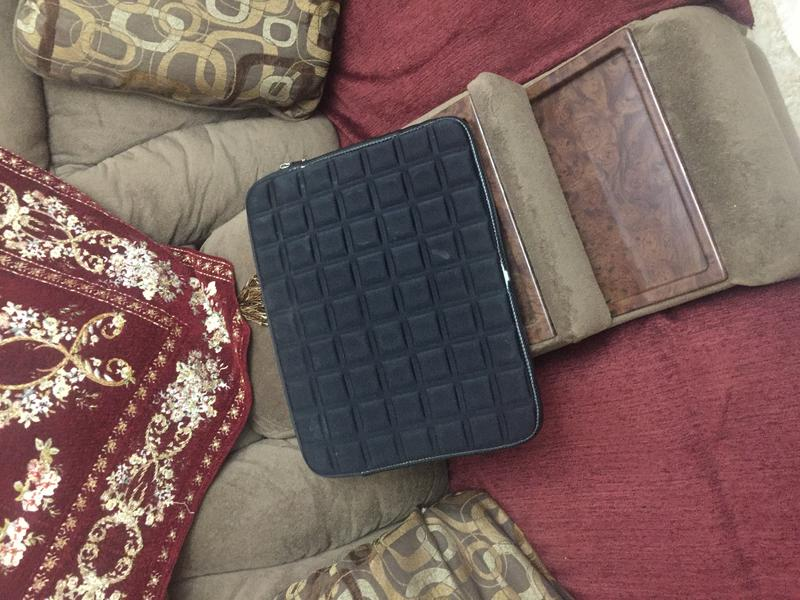cover: (241, 114, 546, 483)
